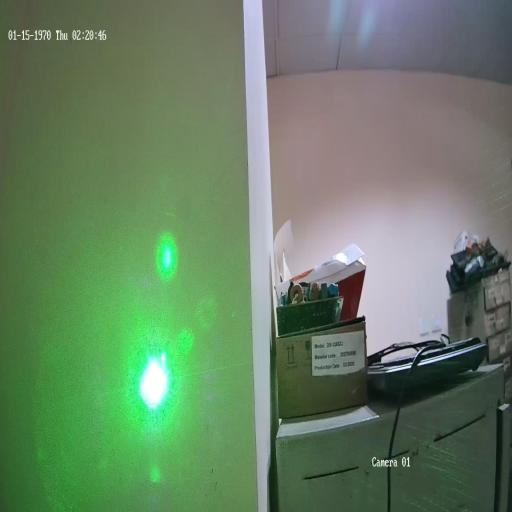laser: (136, 345, 172, 411)
